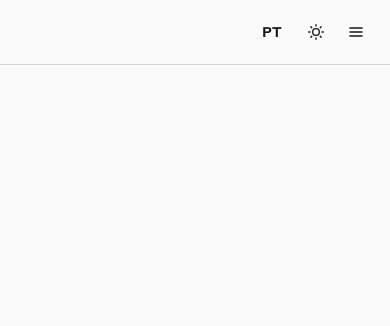
Navbar › o botão de menu anuncia se está aberto e tira os links fechados da ordem de Tab
This screenshot has width=390, height=326.
Click the button named "Menu" at (356, 32), box [338,14,374,50]
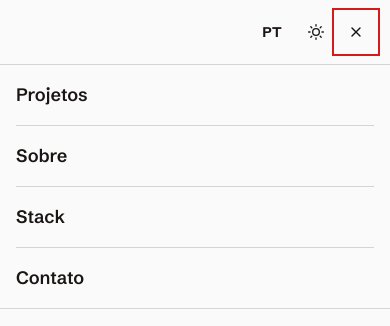
Now the button named "Menu" is expanded, box [338,14,374,50]
